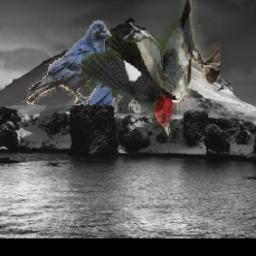Crow: (25, 21, 111, 106)
Woodpecker: (82, 0, 220, 138)
